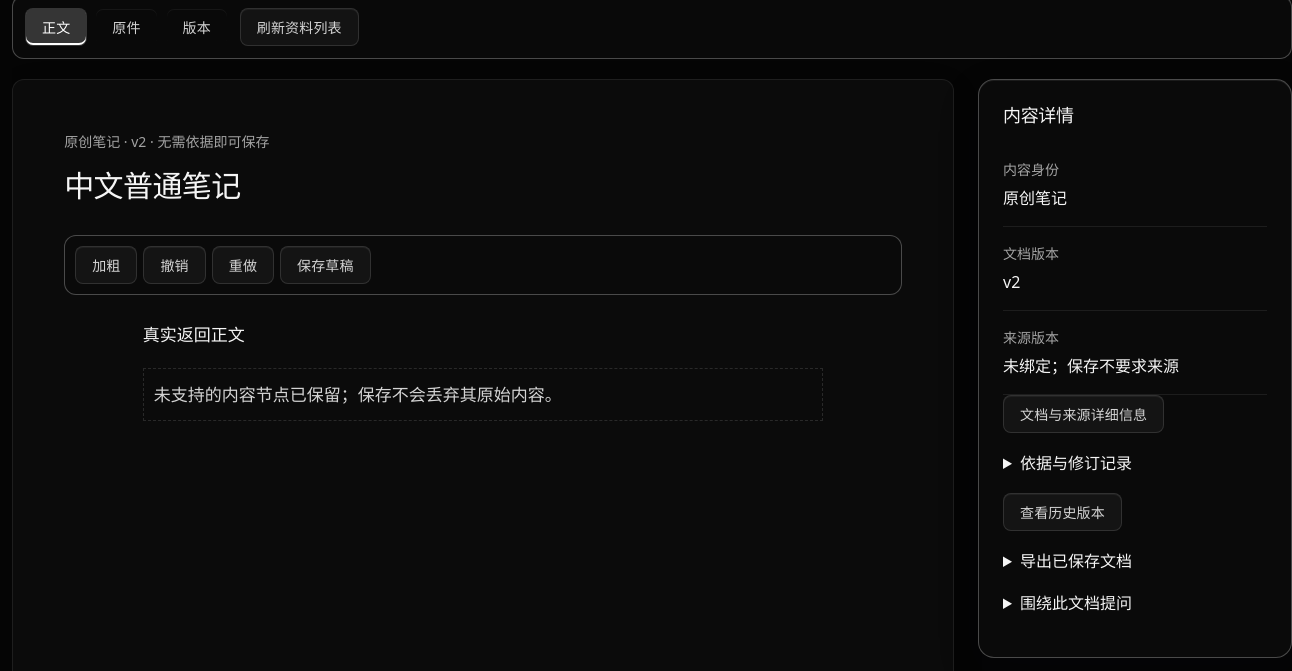
it: semantic 02 and 03 layouts › SIMULATED: auxiliary tools collapse without losing input, hiding list errors or starting inference
Click the heading "围绕此文档提问".
click(1076, 603)  # box x1=1020 y1=592 x2=1132 y2=614
(page scrolled)
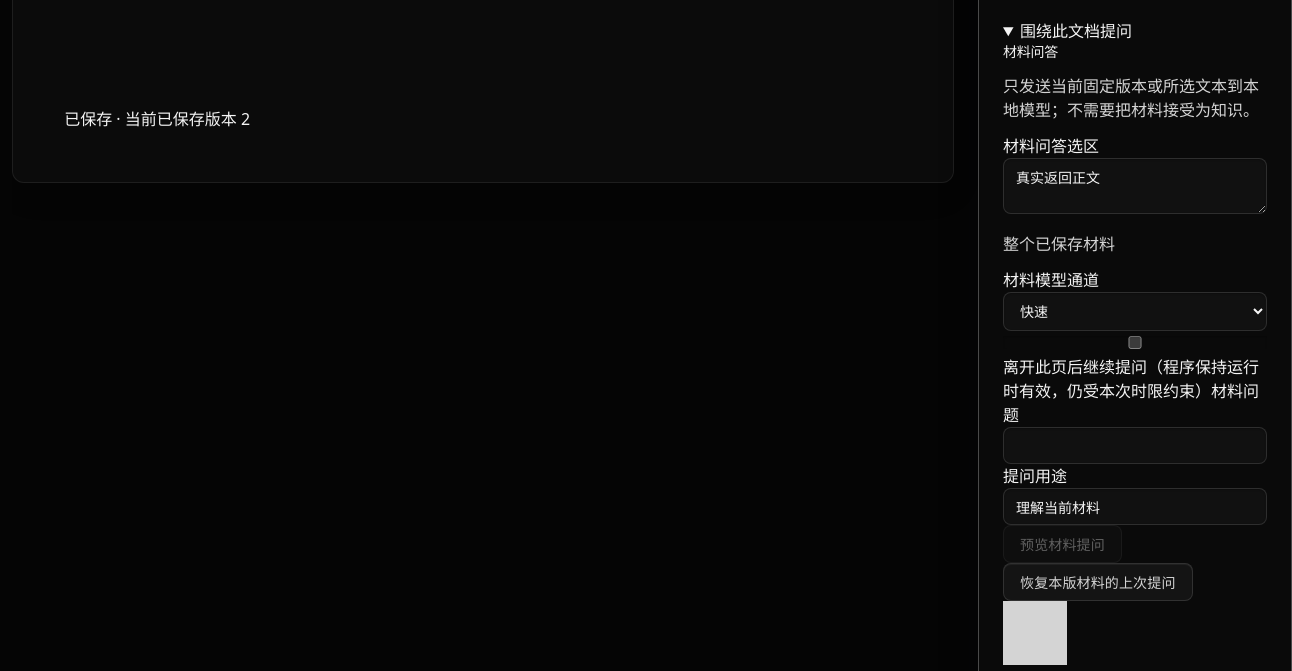
Type "保留尚未提交的问题" into the field labelled "材料问题".
click(1135, 446); type("保留尚未提交的问题")  # box x1=1003 y1=427 x2=1267 y2=464
Click the heading "围绕此文档提问".
click(1076, 31)  # box x1=1020 y1=20 x2=1132 y2=42
(page scrolled)
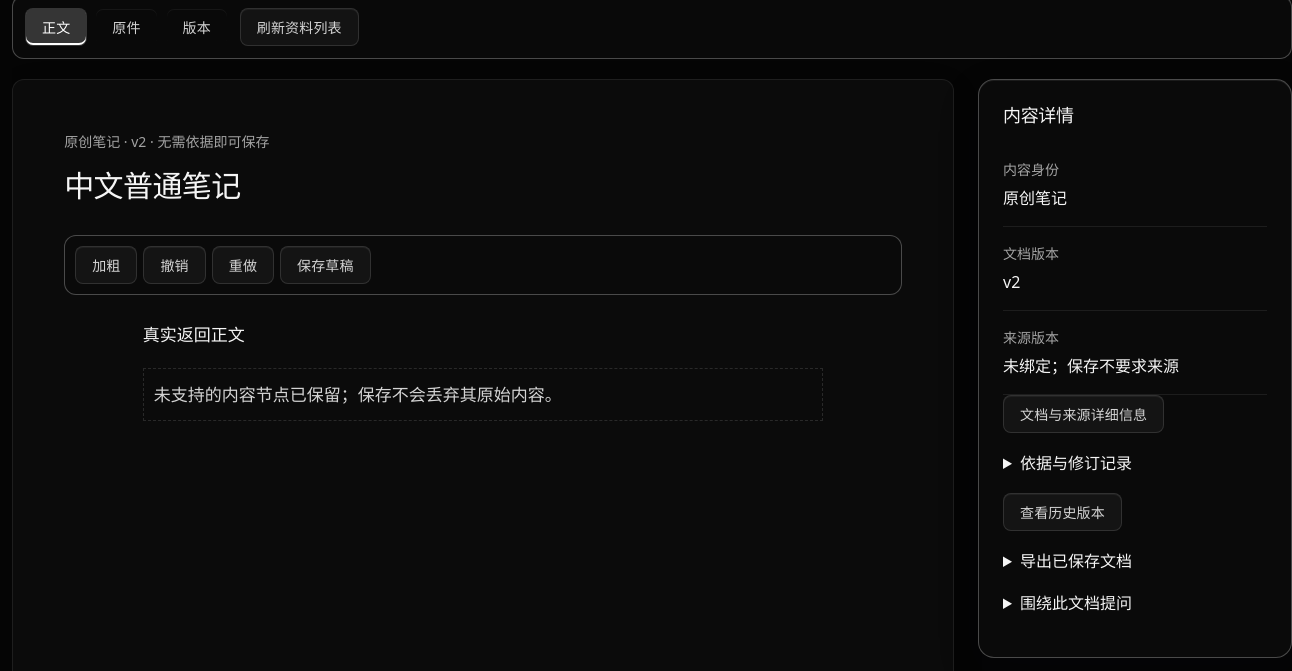
Click the button "原件".
click(126, 27)  # box x1=95 y1=8 x2=158 y2=46
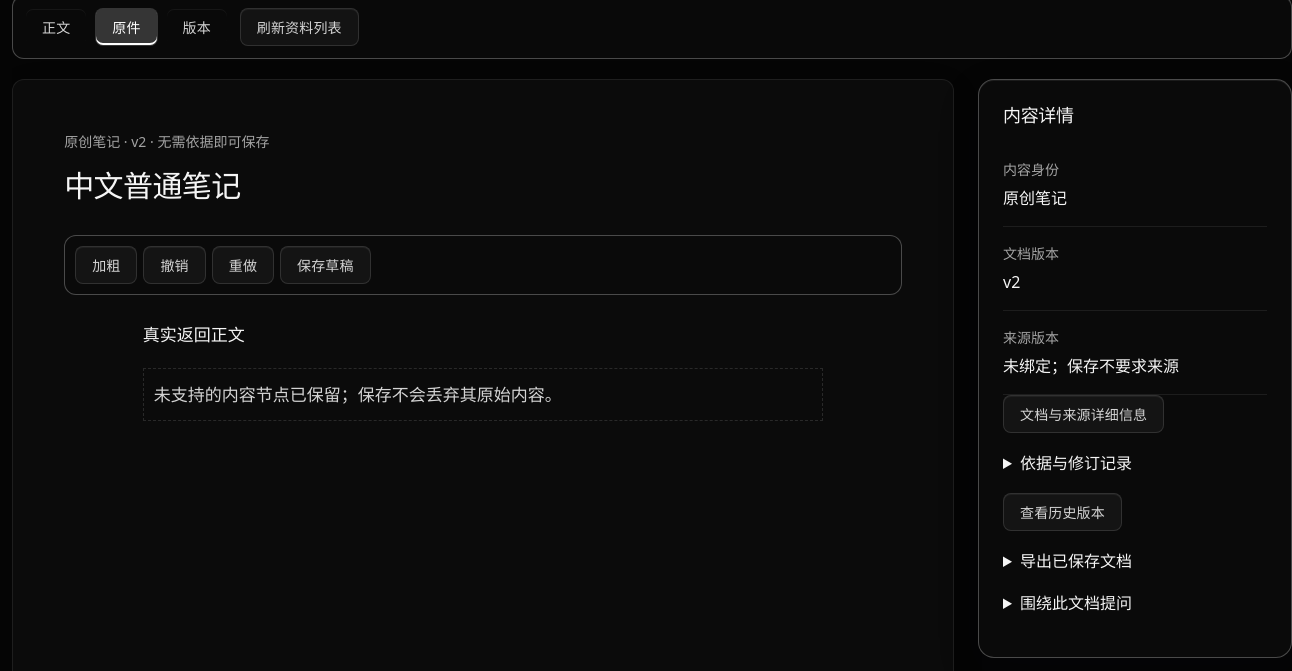
Click the button "正文".
click(56, 27)  # box x1=25 y1=8 x2=87 y2=46
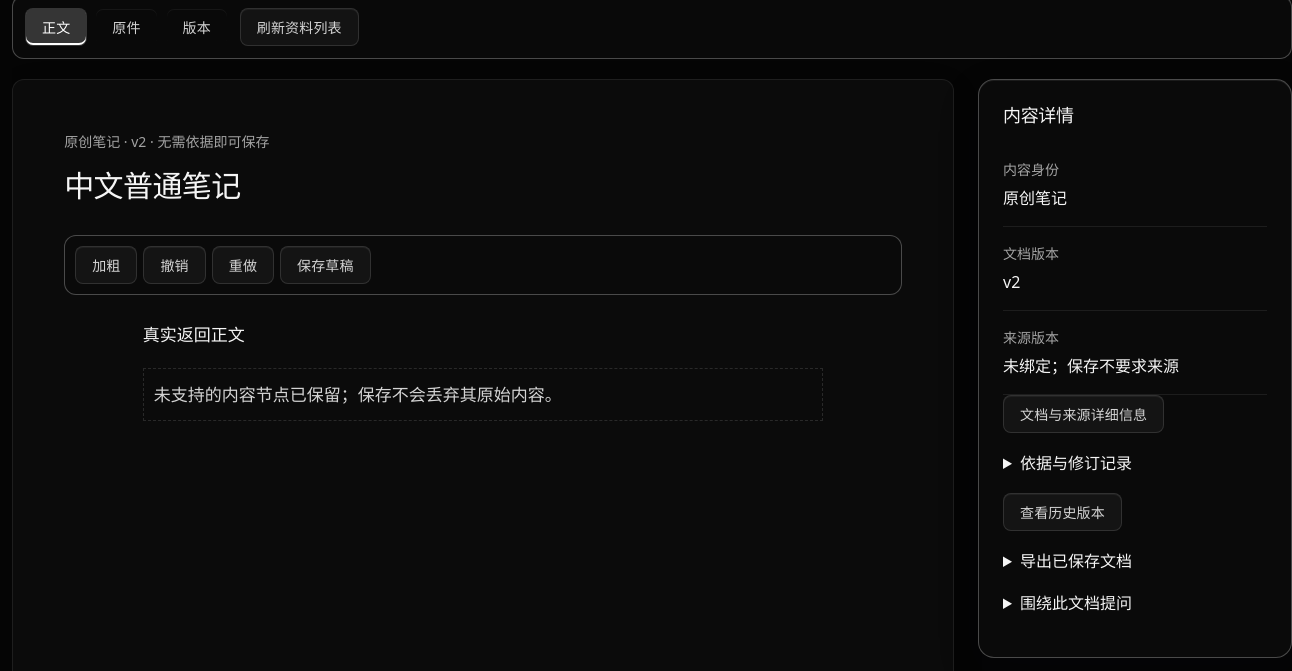
Click the heading "围绕此文档提问".
click(1076, 603)  # box x1=1020 y1=592 x2=1132 y2=614
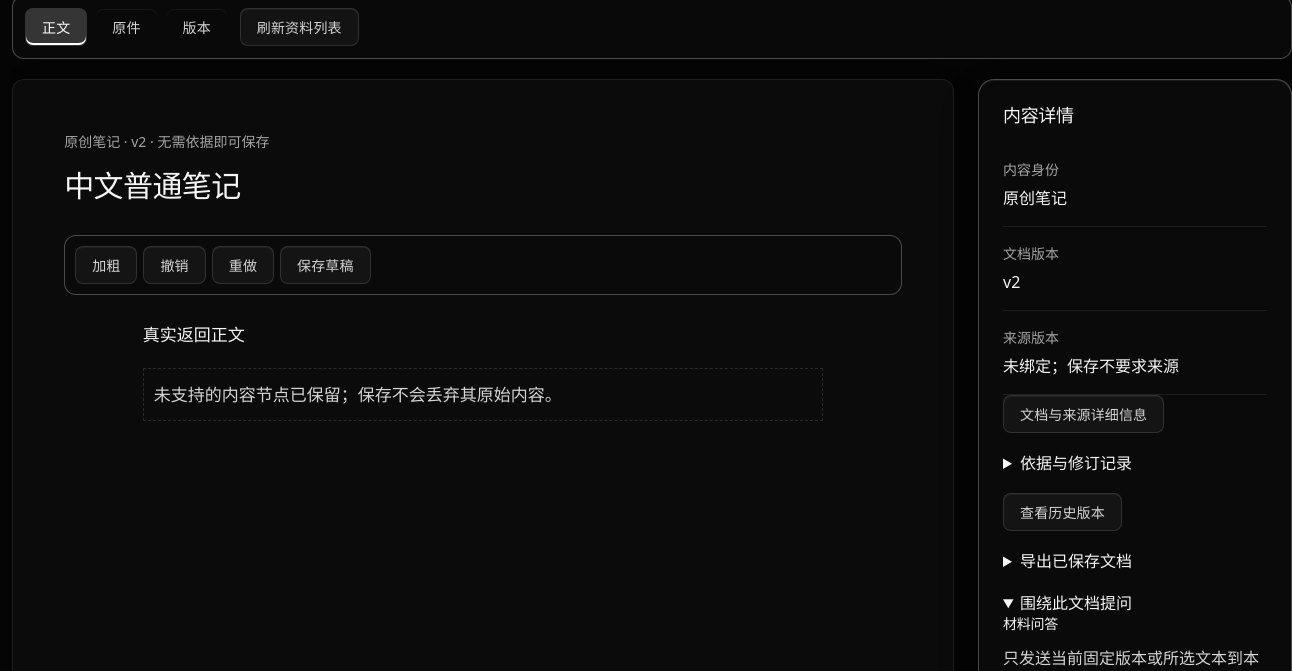
Expected: the button with aria-label "文档与来源详细信息：文档与来源详细信息" reads "文档与来源详细信息", x1=1003 y1=395 x2=1164 y2=433
Click the button "刷新资料列表".
click(299, 27)  # box x1=240 y1=8 x2=359 y2=46
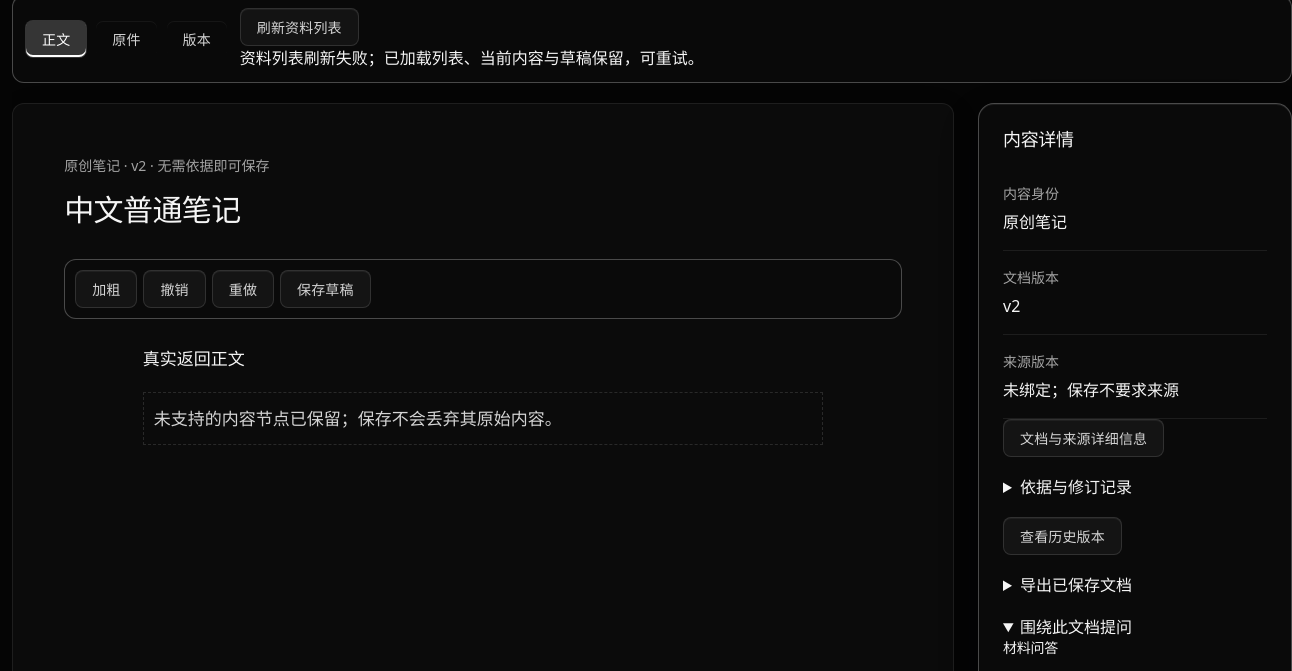
Expected: the message "资料列表刷新失败；已加载列表、当前内容与草稿保留，可重试。" is shown, x1=240 y1=46 x2=704 y2=70
